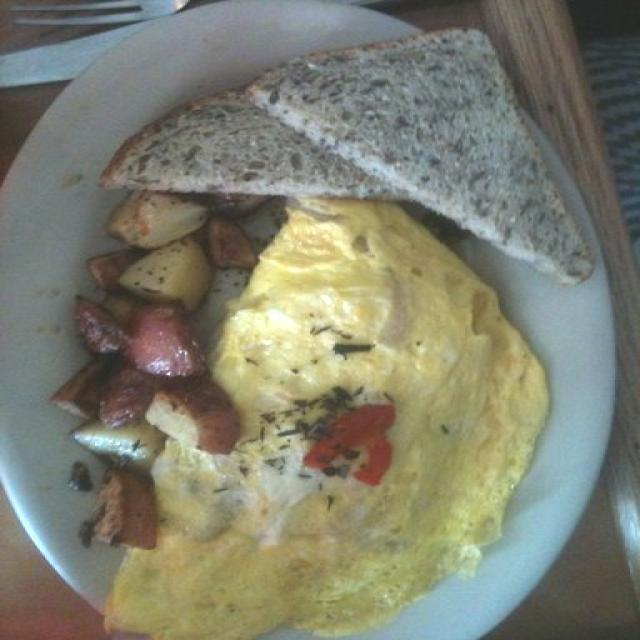omelette: (91, 203, 543, 640)
